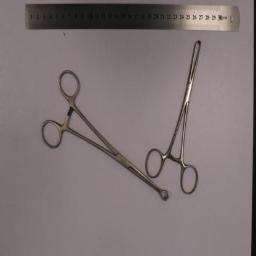Allis Tissue Forceps: (144, 40, 202, 194)
